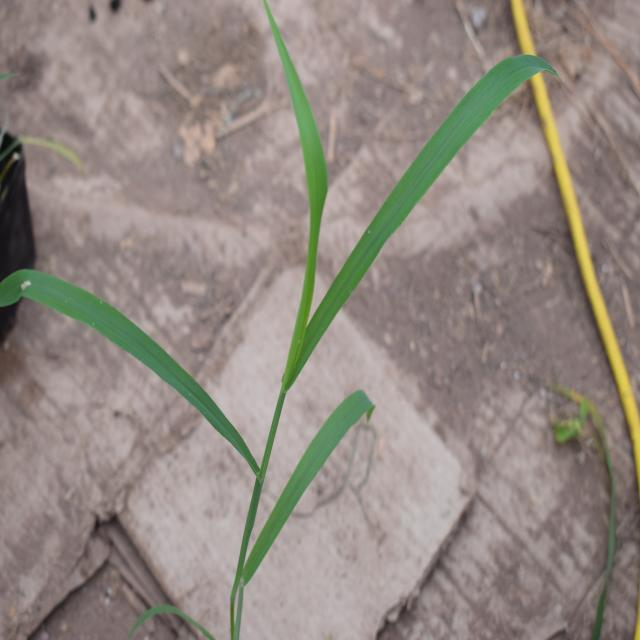crabgrass: (24, 32, 524, 514)
